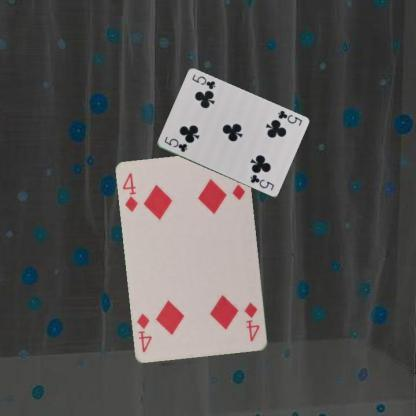4d: (242, 300, 261, 344), (120, 170, 139, 214)
5c: (275, 108, 303, 127), (162, 134, 188, 154)
